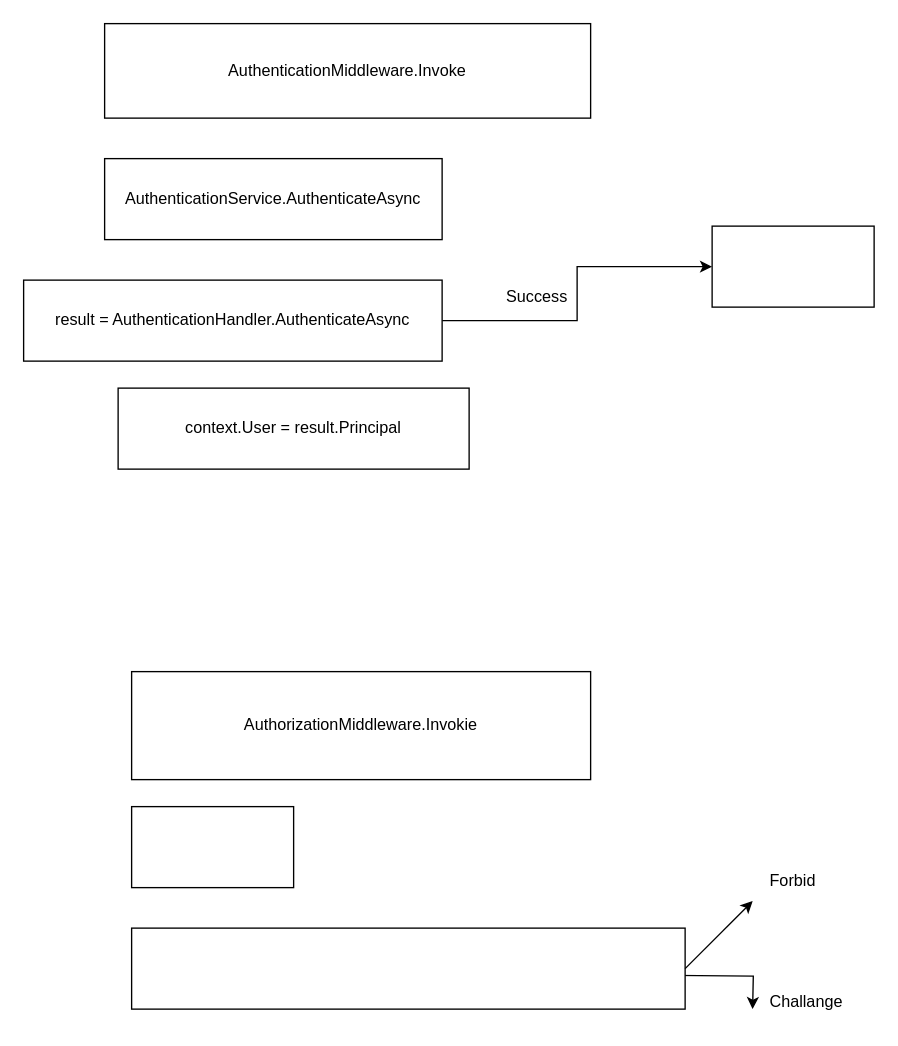
Some shapes in this 898 by 1046 pixel diagram are drawn without their labels. Each missing label, with the box of its shape:
IAuthorizationMiddlewareResultHandler.HandleAsync: (130, 927, 685, 1009)
new ClaimsPincipal: (711, 225, 874, 307)
policies: (130, 805, 294, 888)
